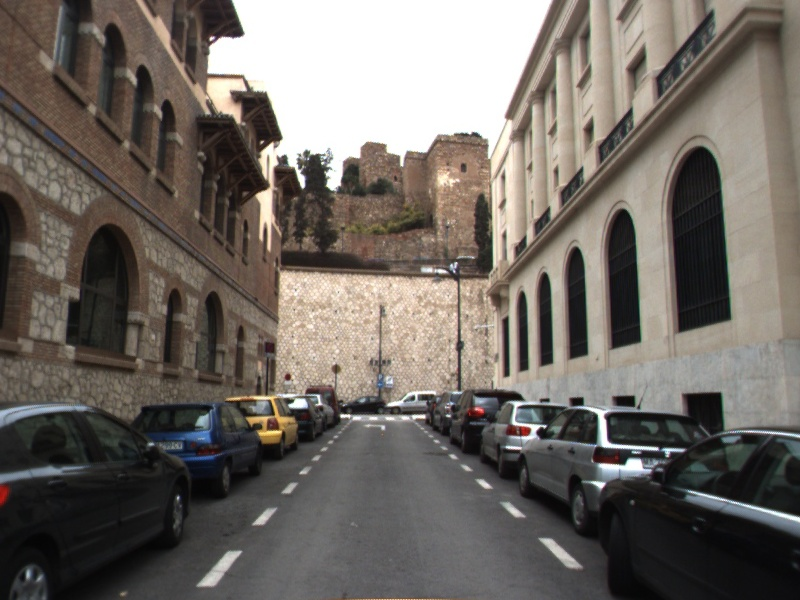LEFT: (361, 421, 387, 433)
